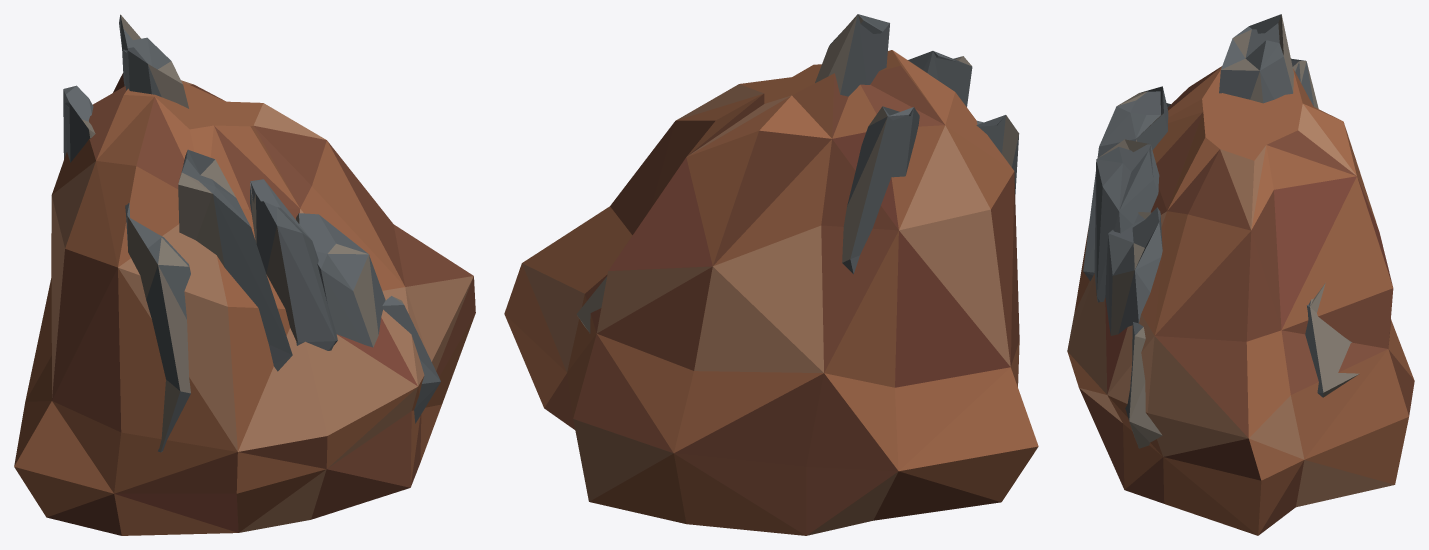
The model's file is iron_ore_outcrop.glb.
3 renders of one model, left to right at view 1: azimuth 30°, elevation 25°; view 2: azimuth 150°, elevation 25°; view 3: azimuth 270°, elevation 25°, orthographic. The views are drawn at different scales.
Parts seen in each view (by area): view 1: iron_ore_outcrop; view 2: iron_ore_outcrop; view 3: iron_ore_outcrop.
Boxes of the visible parts, left/top/right/bottom form: iron_ore_outcrop: left=14, top=14, right=475, bottom=535; iron_ore_outcrop: left=504, top=14, right=1038, bottom=535; iron_ore_outcrop: left=1067, top=14, right=1414, bottom=535.
Size of the model in its own units: 2.8 by 2.53 by 2.03.
